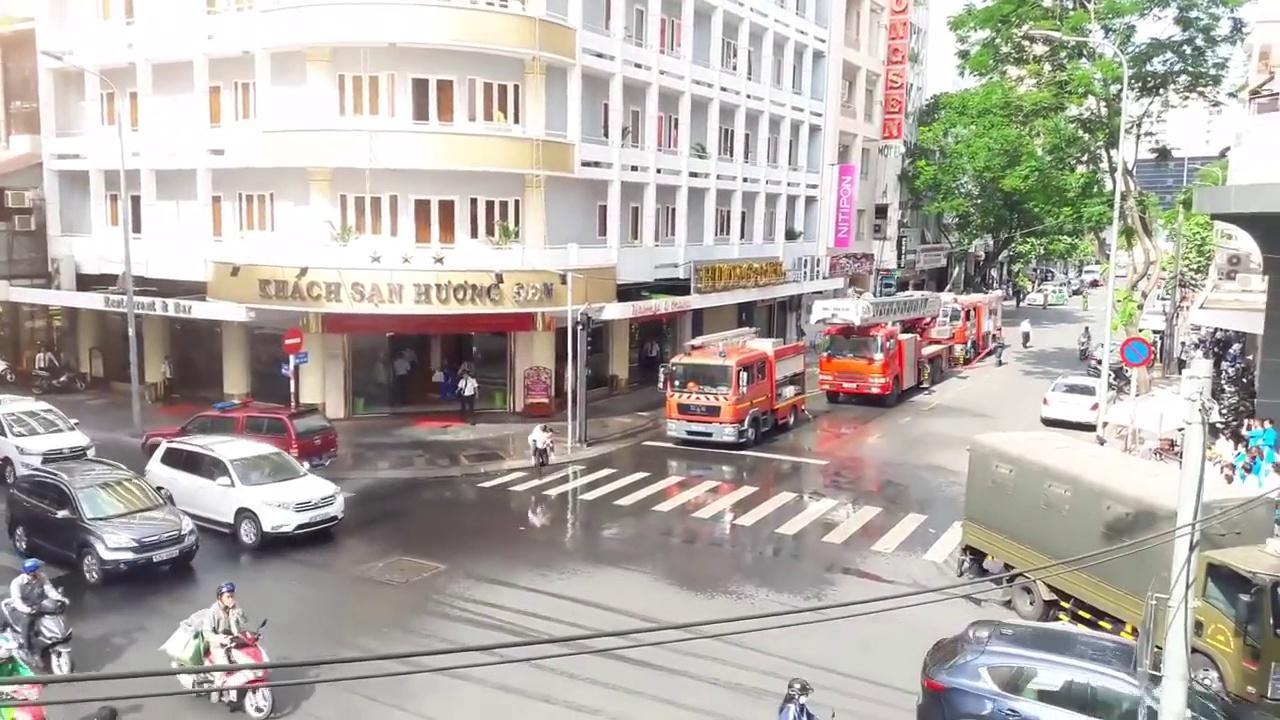xe cuu hoa: (655, 326, 805, 446), (807, 290, 952, 406)
xe hoi: (911, 618, 1159, 720), (6, 456, 197, 585), (144, 434, 343, 549), (143, 396, 336, 459), (0, 394, 92, 462), (1039, 373, 1097, 421)
xe may: (160, 583, 273, 720), (0, 557, 74, 673)
xe tai: (964, 432, 1280, 708)
